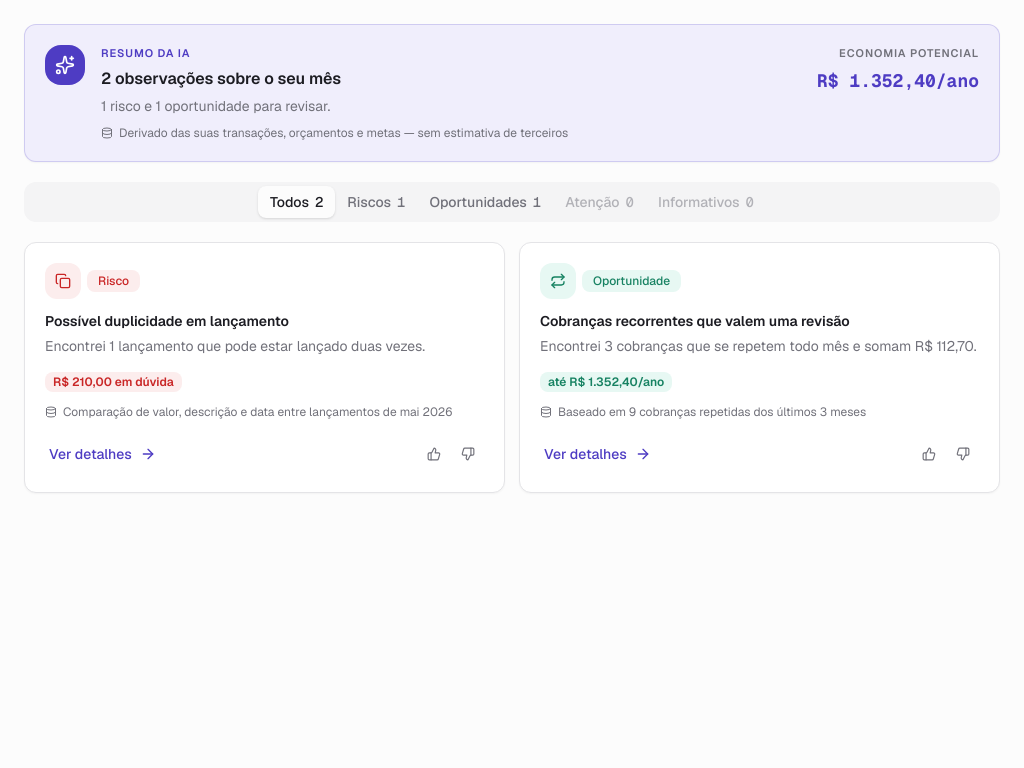
Test case: InsightsScreen › opens the detail dialog with evidence, steps and source
The width and height of the screenshot is (1024, 768).
Click the button "Ver detalhes" below "até R$ 1.352,40/ano" at coordinates (597, 454), box [532,436,663,472]
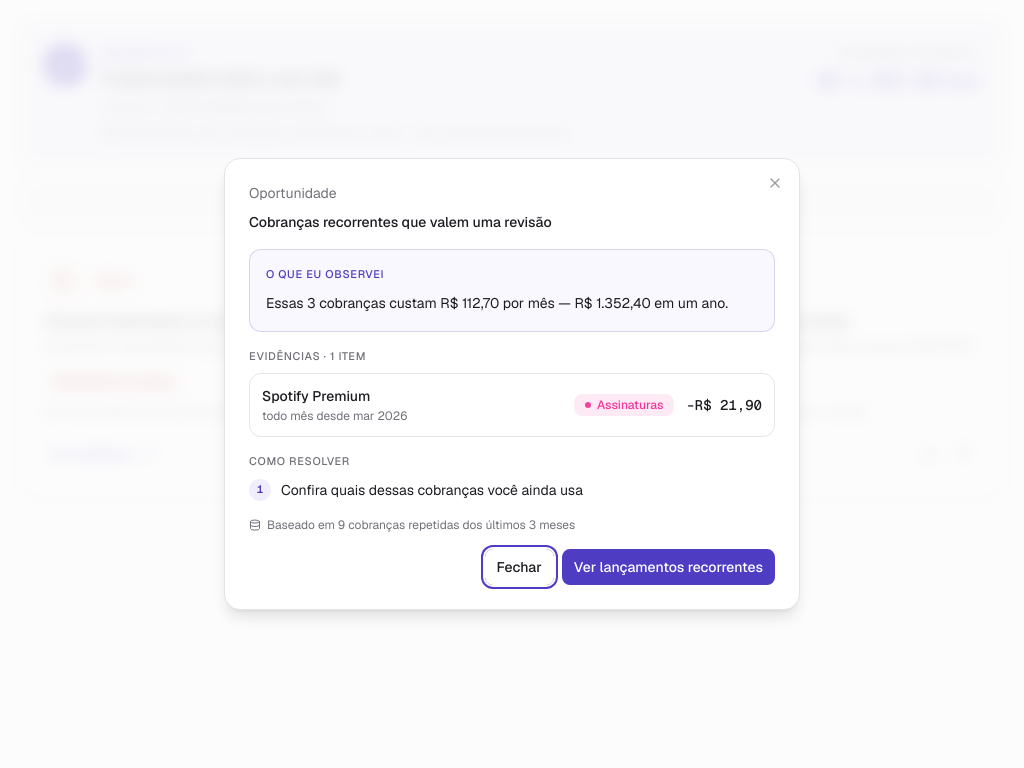
Expected: the text "Essas 3 cobranças custam R$ 112,70 por mês — R$ 1.352,40 em um ano." is shown, [266,292,758,315]
Expected: the text "Spotify Premium" is shown, [262,387,370,405]
Expected: the text "Evidências · 1 item" is shown, [249,349,366,363]
